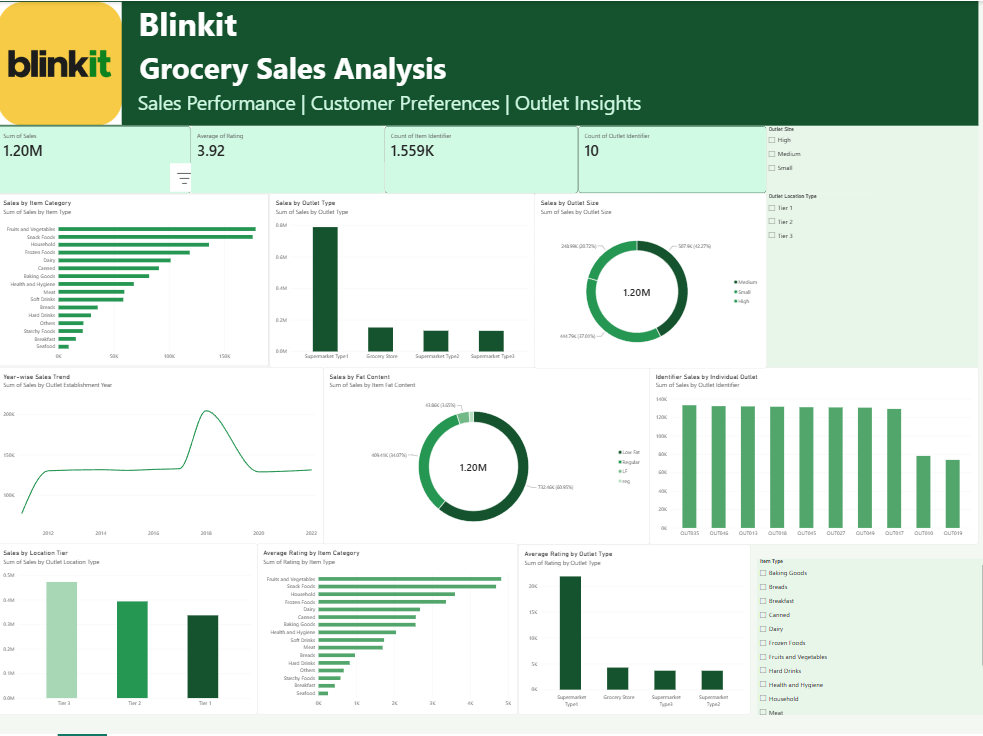

This screenshot's page, from the dashboard's own definition file:
{"tool":"powerbi","page":{"name":"Page 1","canvas":[2700,2000],"ordinal":0},"visuals":[{"type":"cardVisual","fields":{"Data":["Sum(BlinkIT Grocery Data.Sales)"]},"box":[0,340,528,184],"z":0},{"type":"cardVisual","fields":{"Data":["Count(BlinkIT Grocery Data.Item Identifier)"]},"box":[1056,340,528,184],"z":3},{"type":"clusteredBarChart","title":"Sales by Item Category","fields":{"Category":["BlinkIT Grocery Data.Item Type"],"Y":["Sum(BlinkIT Grocery Data.Sales)"]},"box":[0,524,744,476],"z":4},{"type":"clusteredColumnChart","title":"Sales by Outlet Type","fields":{"Category":["BlinkIT Grocery Data.Outlet Type"],"Y":["Sum(BlinkIT Grocery Data.Sales)"]},"box":[744,524,724,476],"z":5},{"type":"donutChart","title":"Sales by Fat Content","fields":{"Category":["BlinkIT Grocery Data.Item Fat Content"],"Y":["Sum(BlinkIT Grocery Data.Sales)"]},"box":[890,1000,890,483.3],"z":6},{"type":"lineChart","title":"Year-wise Sales Trend","fields":{"Category":["BlinkIT Grocery Data.Outlet Establishment Year"],"Y":["Sum(BlinkIT Grocery Data.Sales)"]},"box":[0,1000,890,483.3],"z":7},{"type":"slicer","fields":{"Values":["BlinkIT Grocery Data.Outlet Location Type"]},"box":[2096.7,523.3,578,476],"z":8},{"type":"slicer","fields":{"Values":["BlinkIT Grocery Data.Item Type"]},"box":[2073.3,1520,623.3,426.7],"z":9},{"type":"slicer","fields":{"Values":["BlinkIT Grocery Data.Outlet Size"]},"box":[2096.7,340,580,183.3],"z":10},{"type":"clusteredColumnChart","title":"Identifier\tSales by Individual Outlet","fields":{"Category":["BlinkIT Grocery Data.Outlet Identifier"],"Y":["Sum(BlinkIT Grocery Data.Sales)"]},"box":[1780,1000,896.7,483.3],"z":11},{"type":"donutChart","title":"\tSales by Outlet Size","fields":{"Category":["BlinkIT Grocery Data.Outlet Size"],"Y":["Sum(BlinkIT Grocery Data.Sales)"]},"box":[1464,524,633.3,476.7],"z":12},{"type":"clusteredBarChart","title":"Average Rating by Item Category","fields":{"Category":["BlinkIT Grocery Data.Item Type"],"Y":["Sum(BlinkIT Grocery Data.Rating)"]},"box":[710,1480,710,466.7],"z":13},{"type":"clusteredColumnChart","title":"Sales by Location Tier","fields":{"Category":["BlinkIT Grocery Data.Outlet Location Type"],"Y":["Sum(BlinkIT Grocery Data.Sales)"]},"box":[0,1480,710,466.7],"z":14},{"type":"clusteredColumnChart","title":"Average Rating by Outlet Type","fields":{"Category":["BlinkIT Grocery Data.Outlet Type"],"Y":["Sum(BlinkIT Grocery Data.Rating)"]},"box":[1420,1483.3,633.3,463.3],"z":15},{"type":"cardVisual","fields":{"Data":["Count(BlinkIT Grocery Data.Outlet Identifier)"]},"box":[1583.3,340,513.3,183.3],"z":16},{"type":"textbox","box":[0,0,2676,340],"z":17},{"type":"cardVisual","fields":{"Data":["Avg(BlinkIT Grocery Data.Rating)"]},"box":[528,340,528,184],"z":18},{"type":"image","box":[0,0,340,340],"z":24}]}

Visuals, with their boxes in screenshot pixels (x1, y1, x2, y2), scaled from the page's 2700x2000 canvas onto the 983x736 screenshot:
cardVisual - Sum(BlinkIT Grocery Data.Sales): [left=0, top=125, right=192, bottom=193]
cardVisual - Count(BlinkIT Grocery Data.Item Identifier): [left=384, top=125, right=577, bottom=193]
"Sales by Item Category" clusteredBarChart: [left=0, top=193, right=271, bottom=368]
"Sales by Outlet Type" clusteredColumnChart: [left=271, top=193, right=534, bottom=368]
"Sales by Fat Content" donutChart: [left=324, top=368, right=648, bottom=546]
"Year-wise Sales Trend" lineChart: [left=0, top=368, right=324, bottom=546]
slicer - BlinkIT Grocery Data.Outlet Location Type: [left=763, top=193, right=974, bottom=368]
slicer - BlinkIT Grocery Data.Item Type: [left=755, top=559, right=982, bottom=716]
slicer - BlinkIT Grocery Data.Outlet Size: [left=763, top=125, right=975, bottom=193]
"Identifier	Sales by Individual Outlet" clusteredColumnChart: [left=648, top=368, right=975, bottom=546]
"	Sales by Outlet Size" donutChart: [left=533, top=193, right=764, bottom=368]
"Average Rating by Item Category" clusteredBarChart: [left=258, top=545, right=517, bottom=716]
"Sales by Location Tier" clusteredColumnChart: [left=0, top=545, right=258, bottom=716]
"Average Rating by Outlet Type" clusteredColumnChart: [left=517, top=546, right=748, bottom=716]
cardVisual - Count(BlinkIT Grocery Data.Outlet Identifier): [left=576, top=125, right=763, bottom=193]
textbox: [left=0, top=0, right=974, bottom=125]
cardVisual - Avg(BlinkIT Grocery Data.Rating): [left=192, top=125, right=384, bottom=193]
image: [left=0, top=0, right=124, bottom=125]
